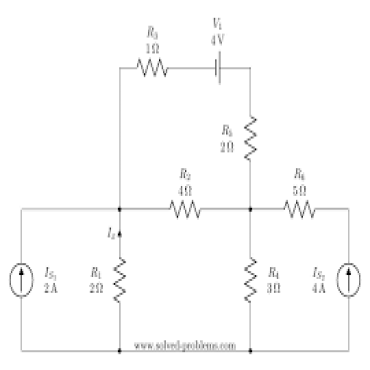Current Source: (8, 262, 62, 300), (312, 262, 362, 299)
Resistor: (88, 256, 130, 306), (244, 256, 282, 304), (283, 167, 317, 220), (221, 115, 257, 163), (169, 166, 201, 219), (136, 27, 169, 76)
Voltage Source: (206, 15, 226, 87)
